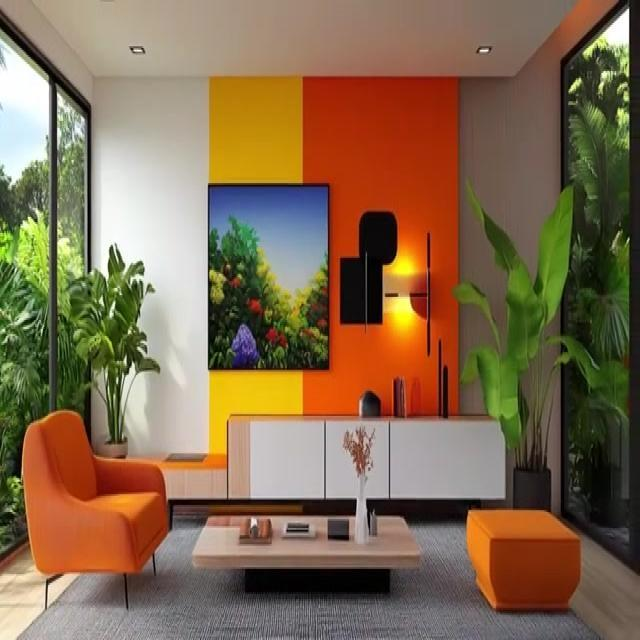obstacle: (21, 408, 168, 612), (226, 412, 506, 508), (191, 512, 421, 592)
